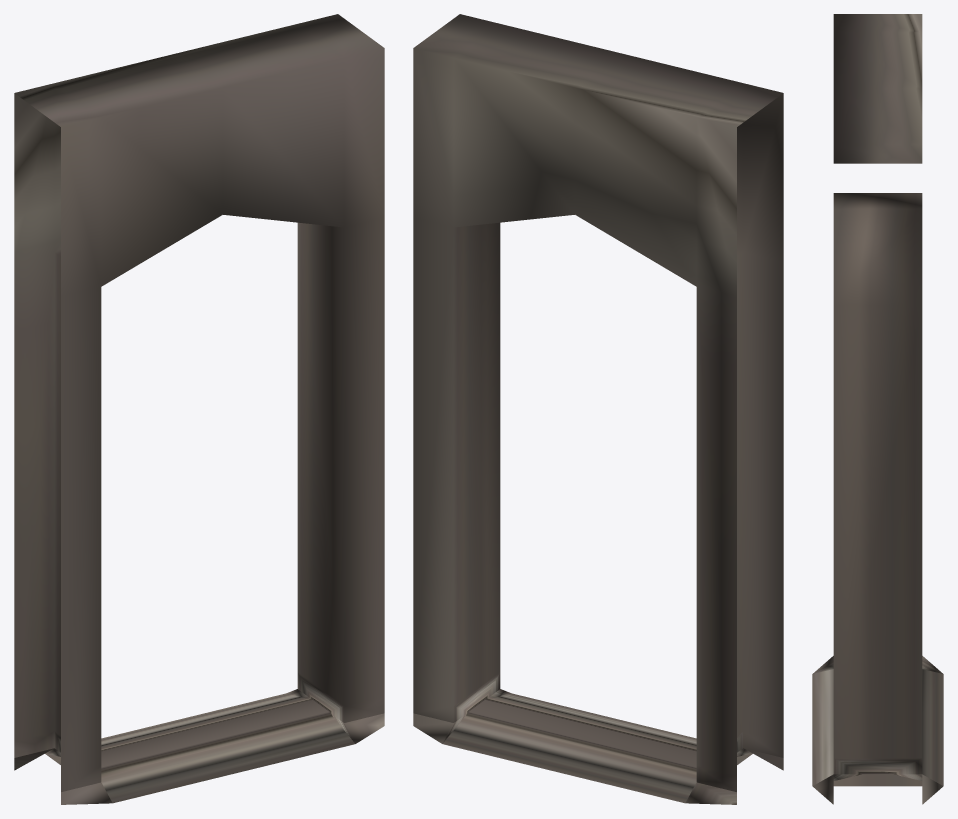
Rendered from towerblock_entry2.glb.
3 renders of one model, left to right at view 1: azimuth 30°, elevation 25°; view 2: azimuth 150°, elevation 25°; view 3: azimuth 270°, elevation 25°, orthographic. The views are drawn at different scales.
Visible parts, largest first — view 1: towerblock_entry2; view 2: towerblock_entry2; view 3: towerblock_entry2.
Boxes of the visible parts, <box> form: towerblock_entry2: <box>14,14,384,804</box>; towerblock_entry2: <box>413,14,783,804</box>; towerblock_entry2: <box>812,14,943,804</box>.
Bounding box in the file's own units: 4 × 8 × 1.48.
Materials: 1 (1 with a texture image).
